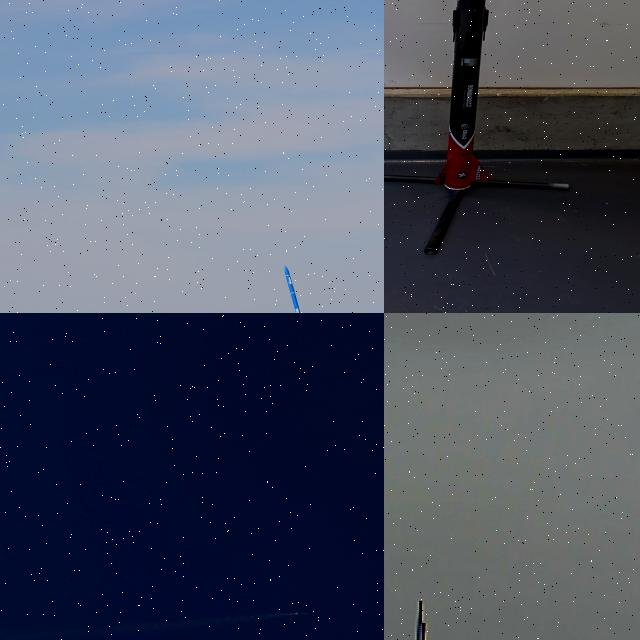Rocket: (434, 0, 490, 191), (284, 265, 301, 313), (294, 611, 311, 615)
